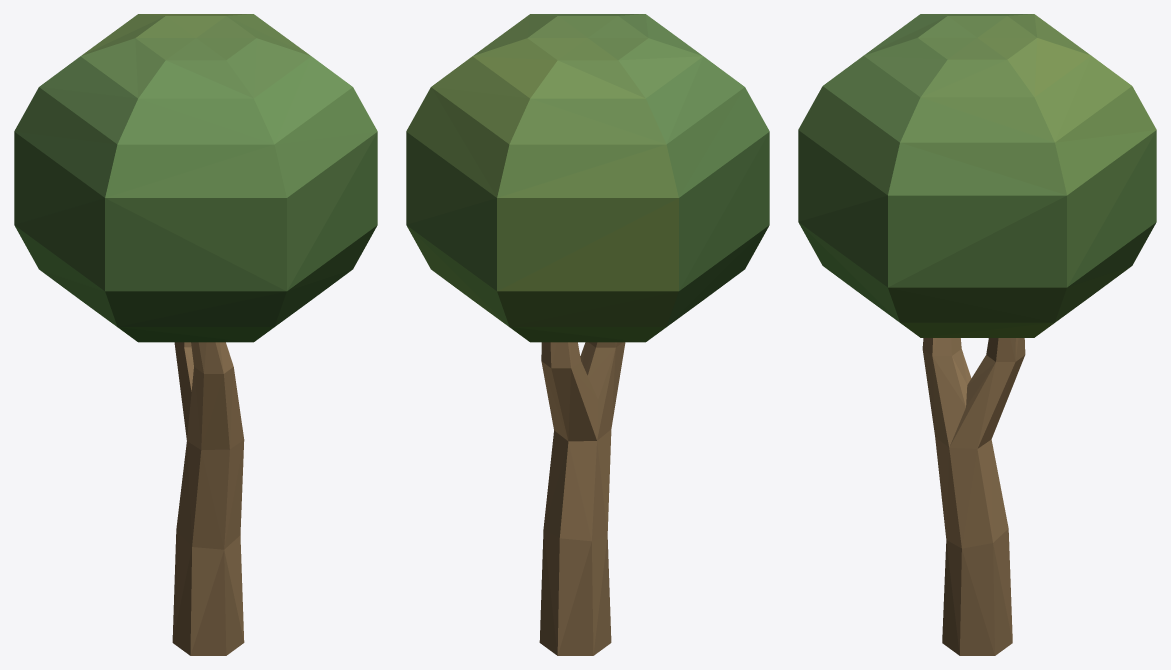
The model's file is Prop_Tree_Oak_2.glb.
3 renders of one model, left to right at view 1: azimuth 30°, elevation 25°; view 2: azimuth 150°, elevation 25°; view 3: azimuth 270°, elevation 25°, orthographic.
Parts seen in each view (by area): view 1: Prop_Tree_Oak_2_Merged; view 2: Prop_Tree_Oak_2_Merged; view 3: Prop_Tree_Oak_2_Merged.
Boxes of the visible parts, box(x1,y1,x2,y2) form: Prop_Tree_Oak_2_Merged: box(14, 14, 377, 655); Prop_Tree_Oak_2_Merged: box(406, 14, 769, 655); Prop_Tree_Oak_2_Merged: box(798, 14, 1156, 655).
Bounding box in the file's own units: 2.2 × 4.68 × 2.54.
